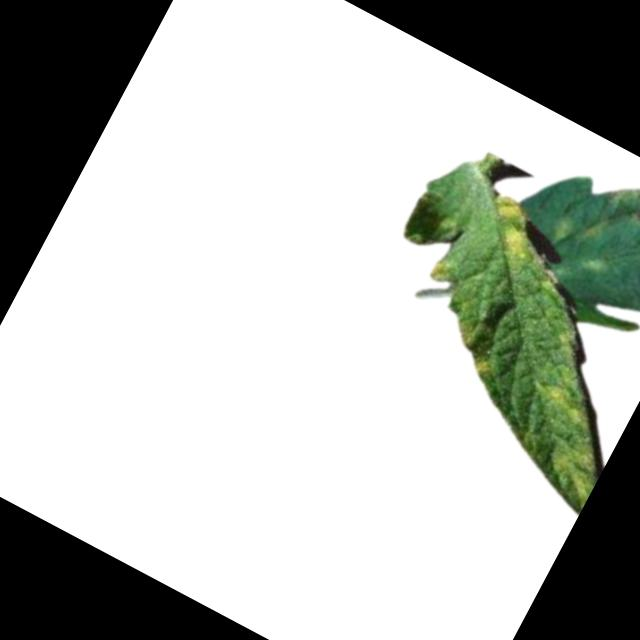Leaf_Mold: (471, 188, 548, 264), (531, 375, 602, 433), (424, 254, 455, 287), (469, 354, 498, 382)
